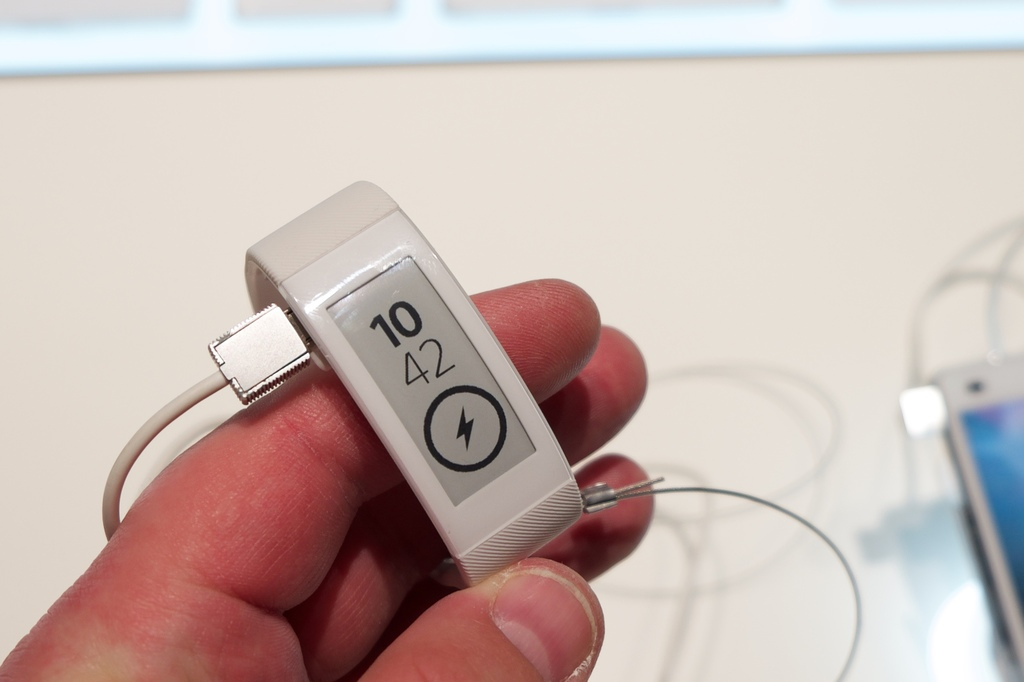Mobile-phone: (930, 348, 1023, 674)
